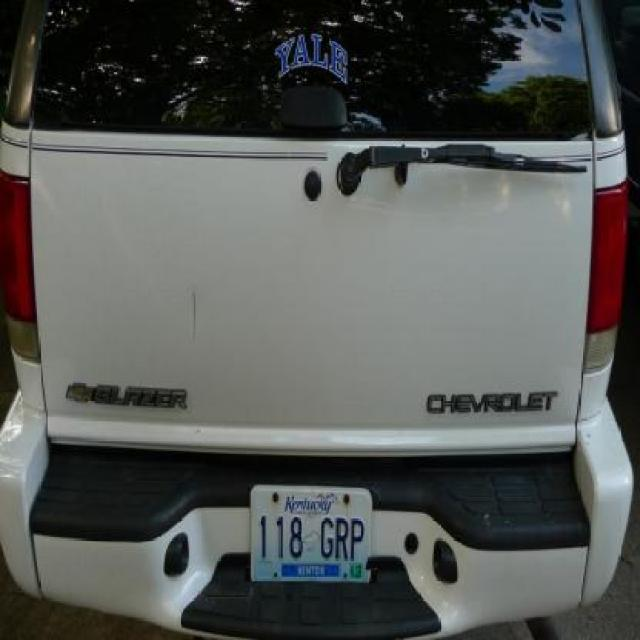License-Plates: (244, 481, 378, 585)
